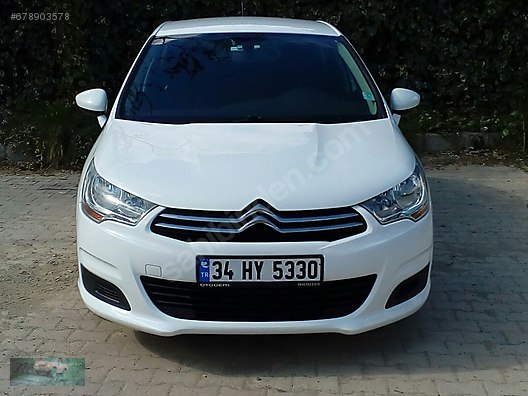citroen: (61, 10, 446, 342)
